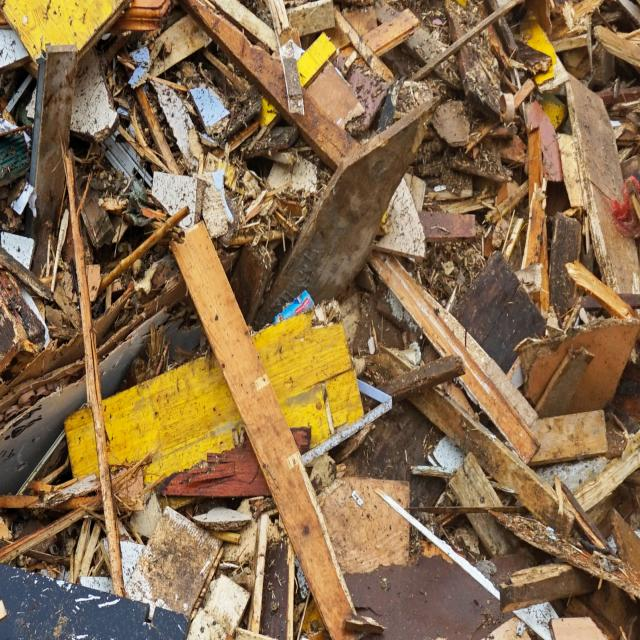green waste: (0, 3, 637, 640)
